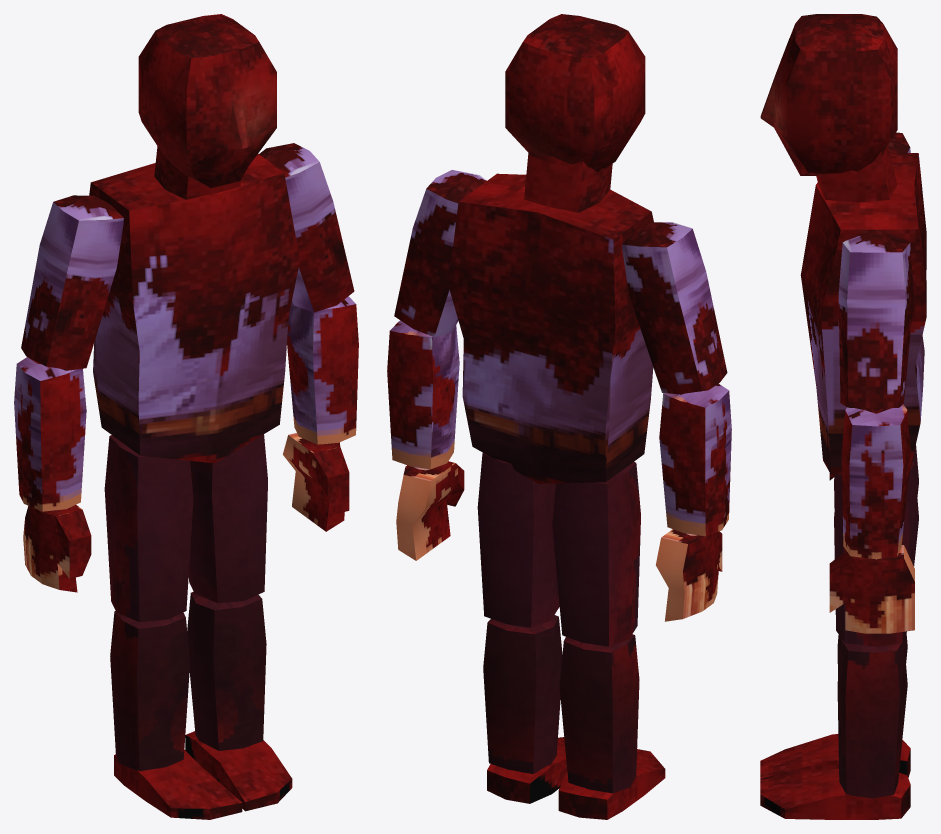
The model's file is Corps_debout.FBX.
3 views of the same model, side by side, from view 1: azimuth 30°, elevation 25°; view 2: azimuth 150°, elevation 25°; view 3: azimuth 270°, elevation 25° (orthographic).
Parts seen in each view (by area): view 1: BASE; view 2: BASE; view 3: BASE.
Boxes of the visible parts, x1,y1,x2,y2 form: BASE: (14,14,358,819); BASE: (387,14,731,819); BASE: (760,14,926,819).
Size of the model in its own units: 69.01 by 153 by 30.16.
